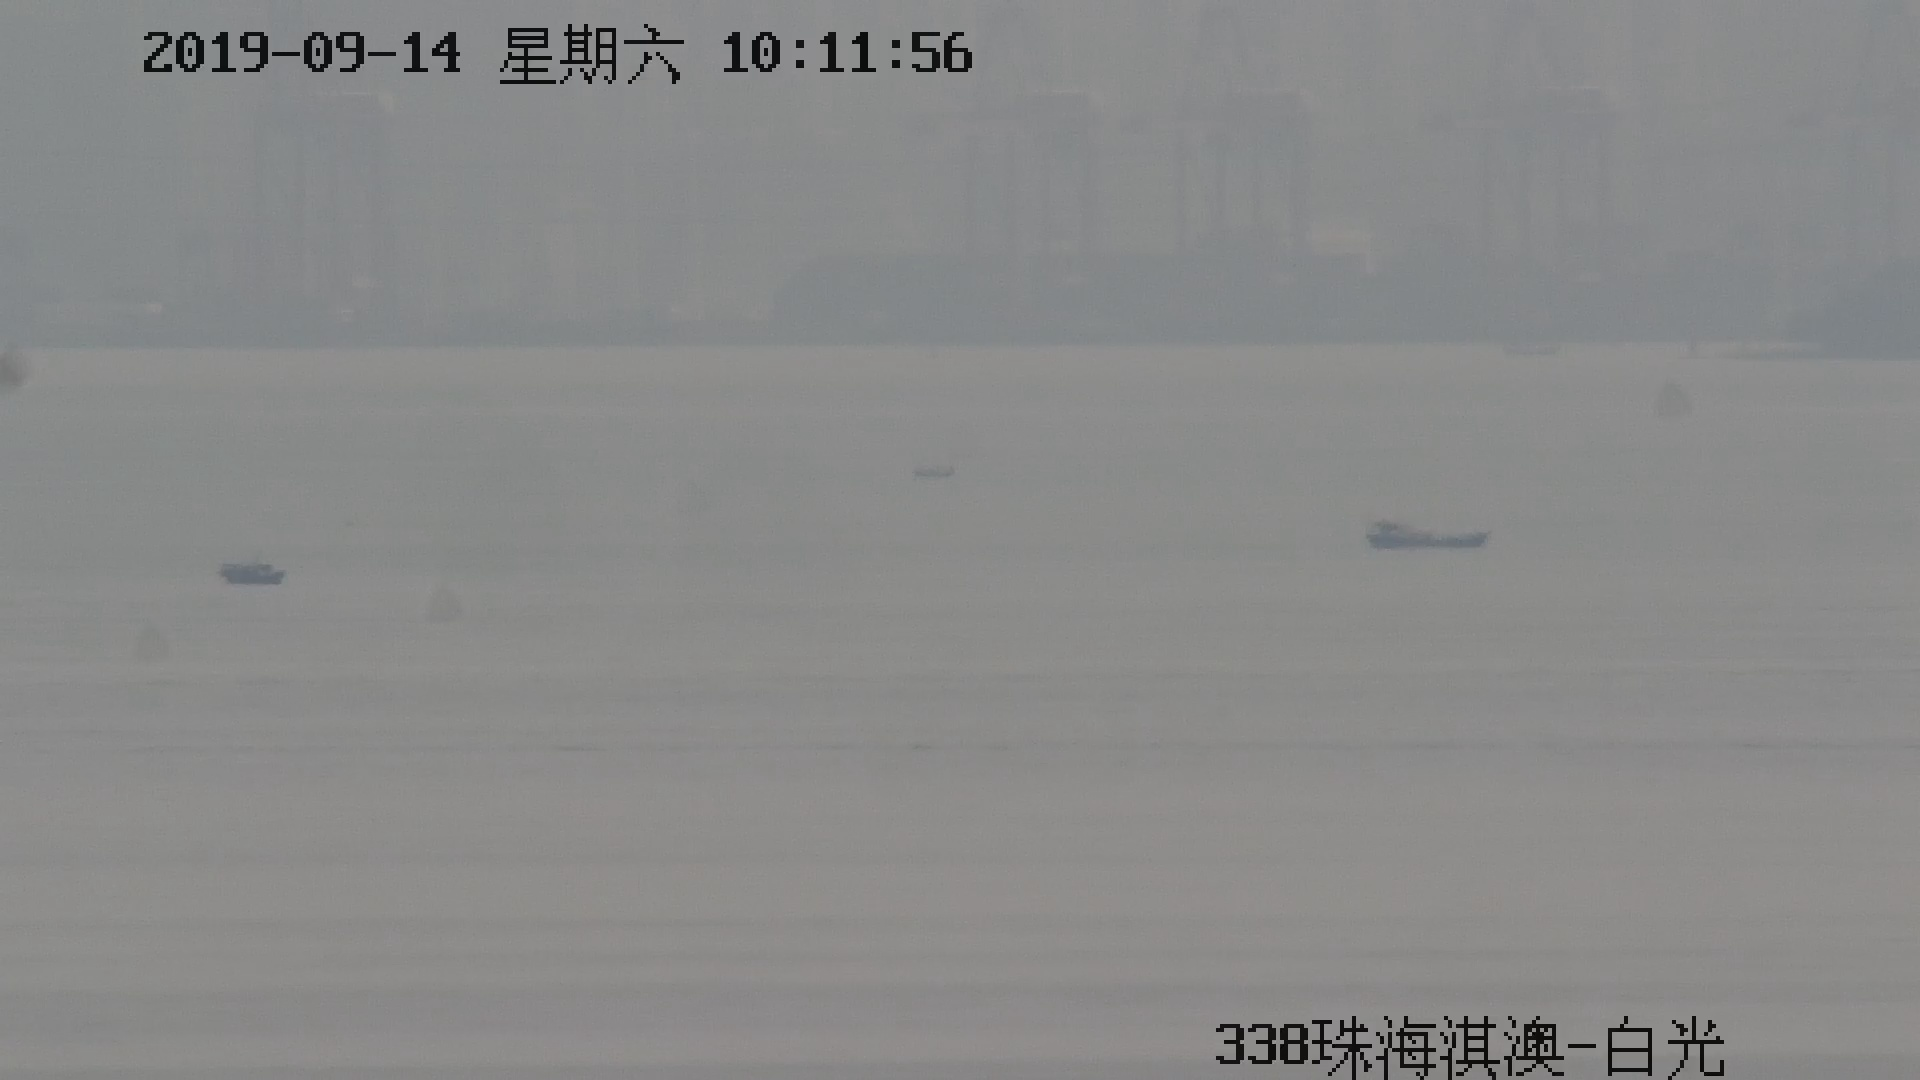ship: (1366, 520, 1487, 553), (216, 549, 293, 592)
